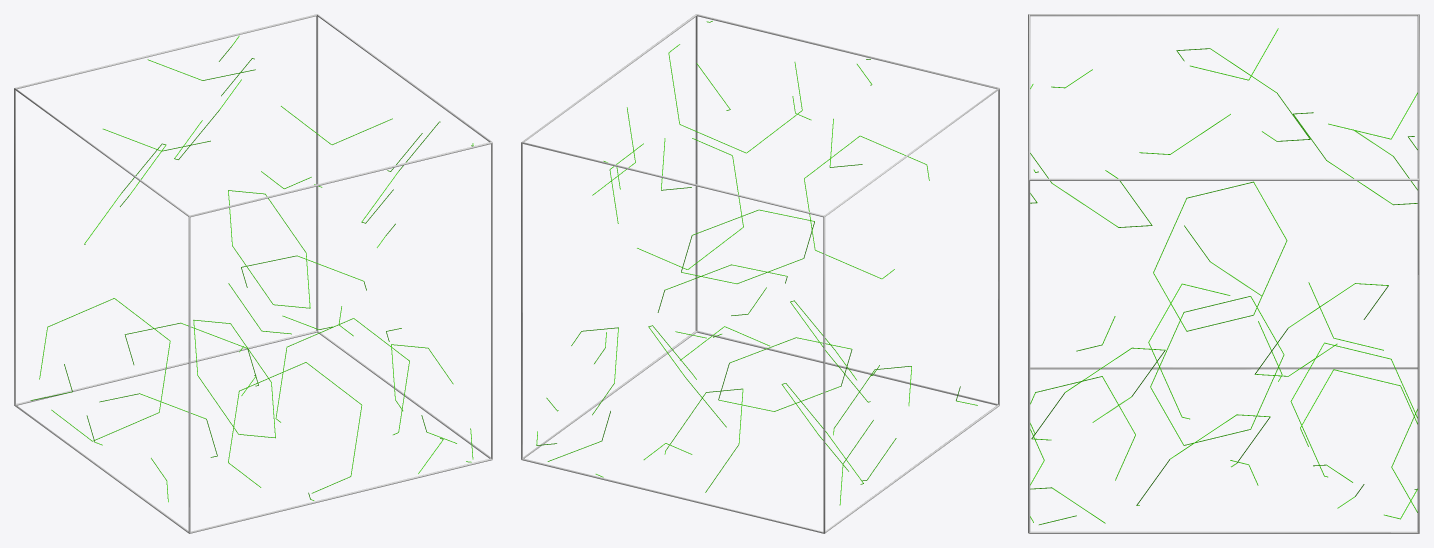
The model's file is ddd000.glb.
3 views of the same model, side by side, from view 1: azimuth 30°, elevation 25°; view 2: azimuth 150°, elevation 25°; view 3: azimuth 270°, elevation 25° (orthographic). The views are drawn at different scales.
Parts seen in each view (by area): view 1: Shape_IndexedLineSet, Shape_IndexedLineSet.001; view 2: Shape_IndexedLineSet, Shape_IndexedLineSet.001; view 3: Shape_IndexedLineSet, Shape_IndexedLineSet.001.
Boxes of the visible parts, left/top/right/bottom form: Shape_IndexedLineSet: left=14, top=14, right=492, bottom=533; Shape_IndexedLineSet.001: left=30, top=35, right=473, bottom=502; Shape_IndexedLineSet: left=521, top=14, right=999, bottom=533; Shape_IndexedLineSet.001: left=536, top=21, right=977, bottom=505; Shape_IndexedLineSet: left=1028, top=14, right=1419, bottom=533; Shape_IndexedLineSet.001: left=1030, top=28, right=1417, bottom=524.
Size of the model in its own units: 10.06 by 10.06 by 10.06.
